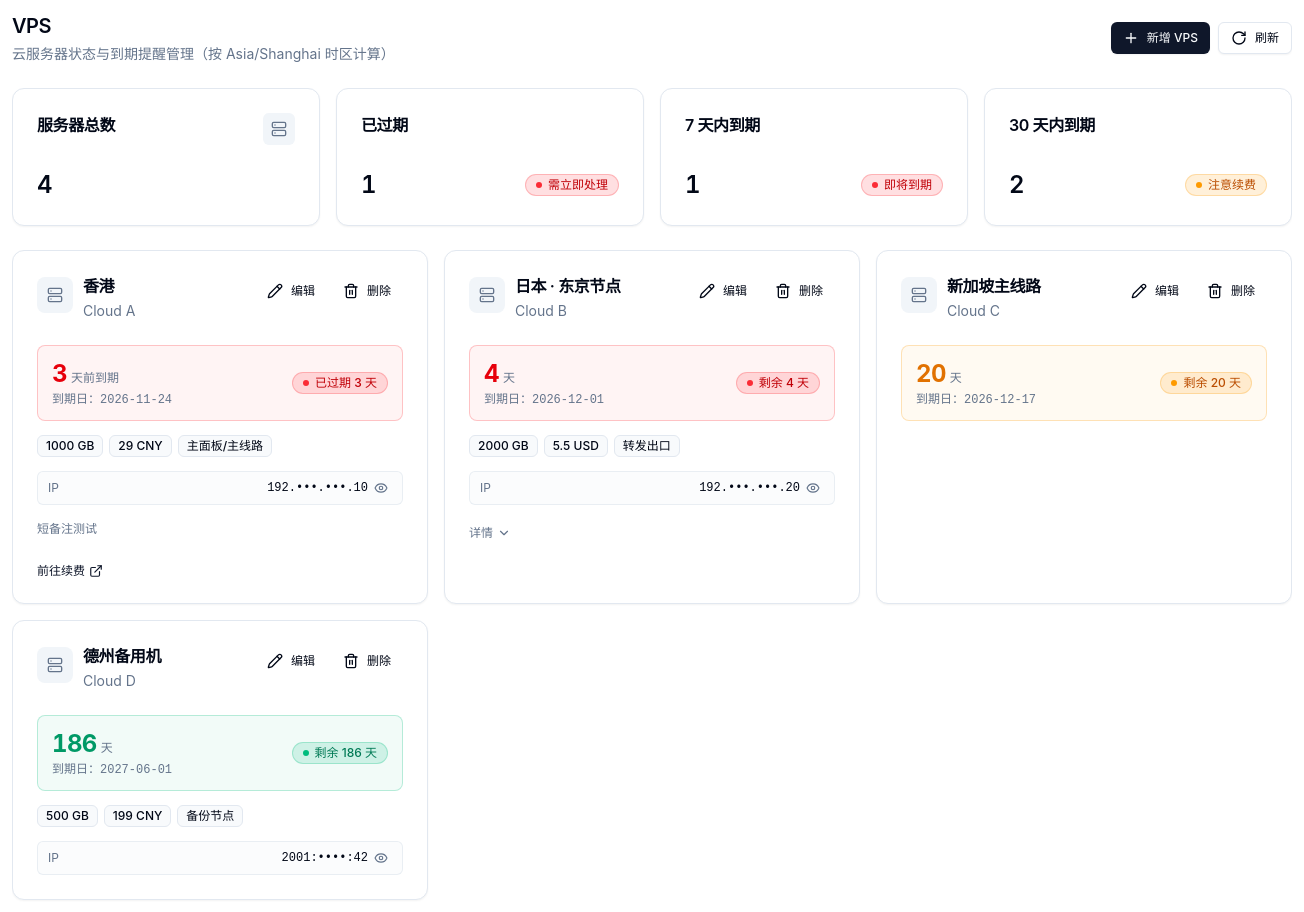
VpsPage VPS 卡片页 › IP 默认打码显示，点击后切换明文与重新打码
Expected: the heading "香港" is shown, [83,275,114,297]
Expected: the text "192.•••.•••.10" is shown, [267,480,368,496]
Click the button named "显示 IP".
click(328, 488)  # box [263,478,392,498]
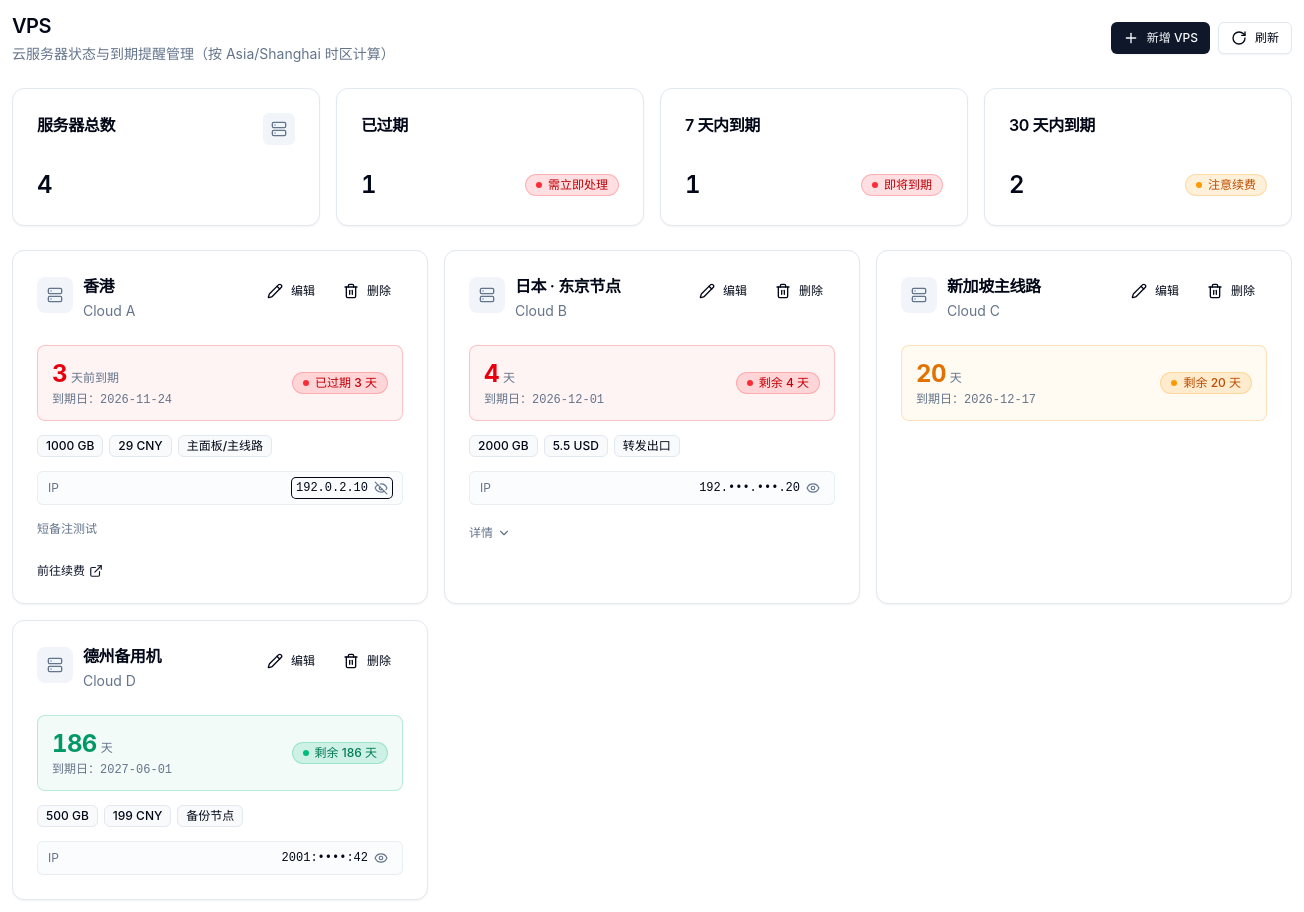
Now the text "192.0.2.10" is shown, box [296,480,368,496]
Now the button "192.•••.•••.10" is gone
Click the button named "隐藏 IP".
click(342, 488)  # box [292,478,392,498]
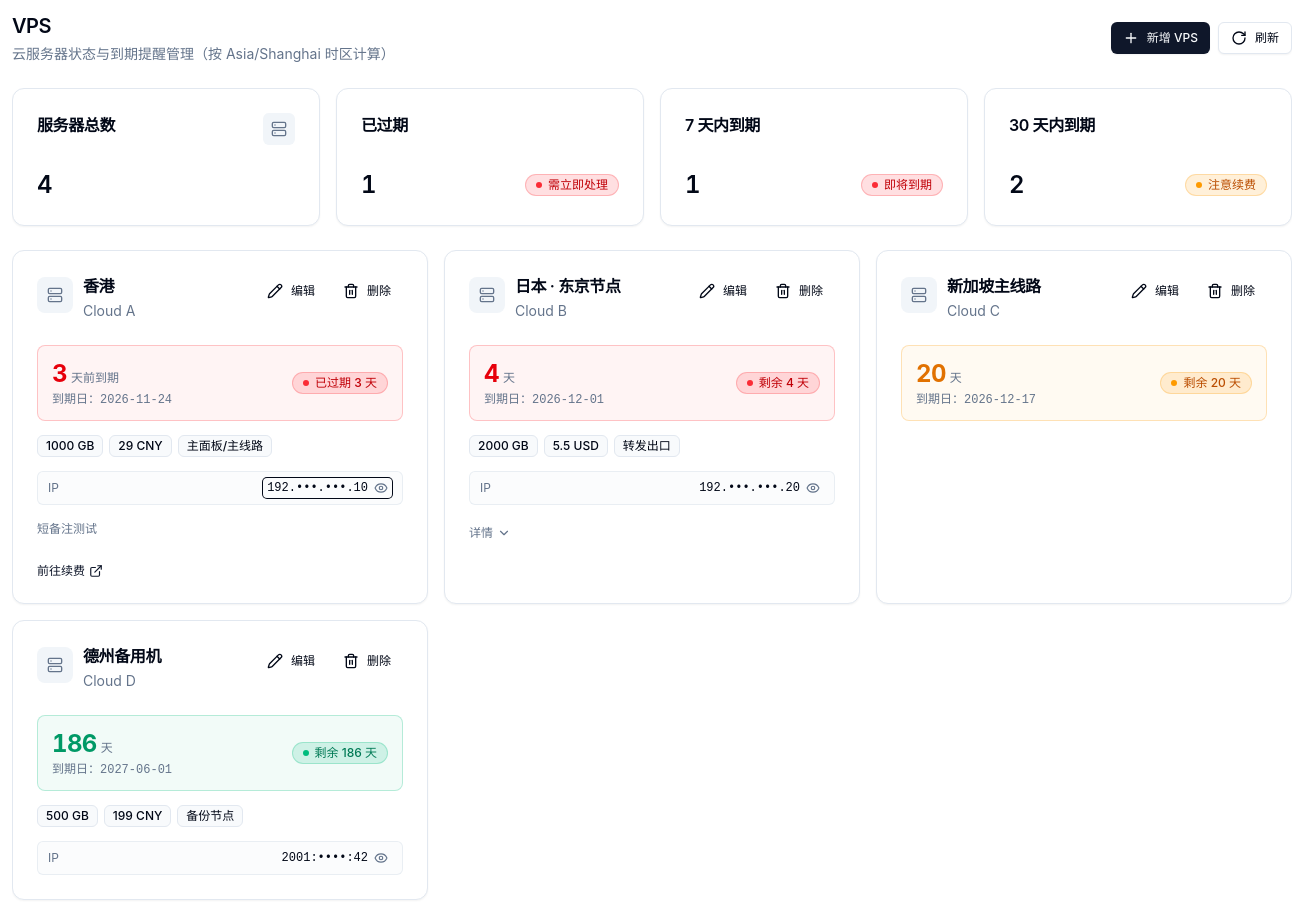
Now the text "192.•••.•••.10" is shown, box [267,480,368,496]
Now the button "192.0.2.10" is gone
